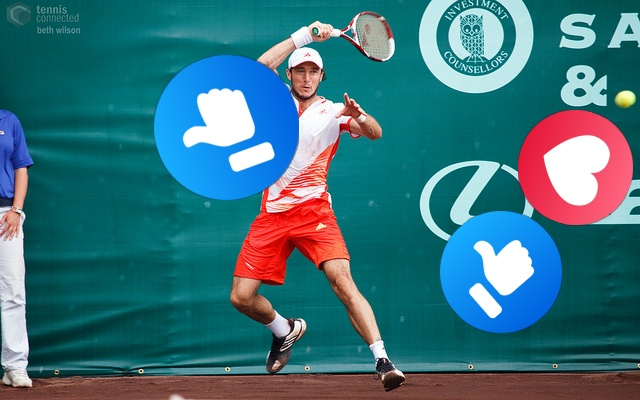like: (154, 55, 299, 200), (440, 211, 562, 333)
love: (518, 110, 633, 225)
